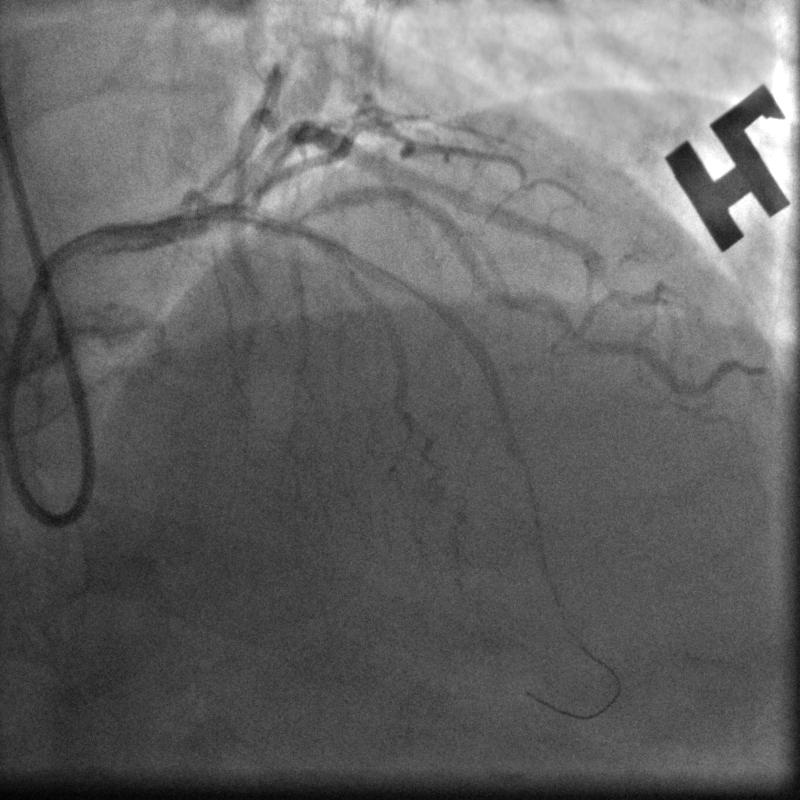Stenosis: (390, 180, 443, 220)
